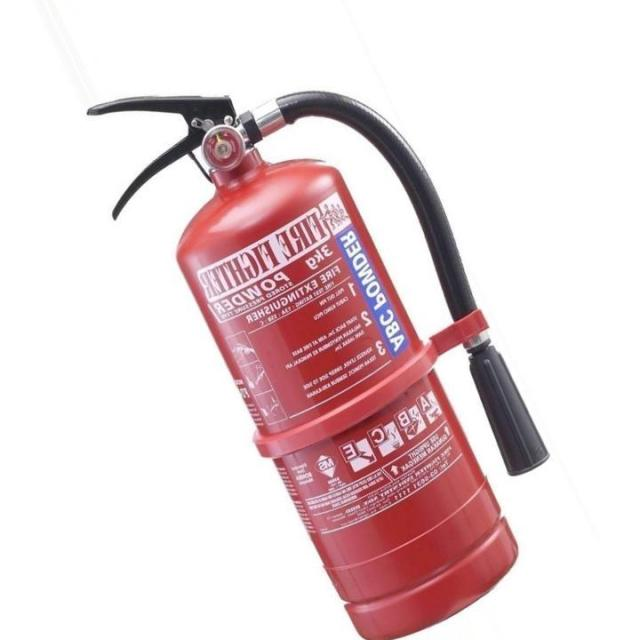fire_extinguisher: (82, 85, 558, 639)
